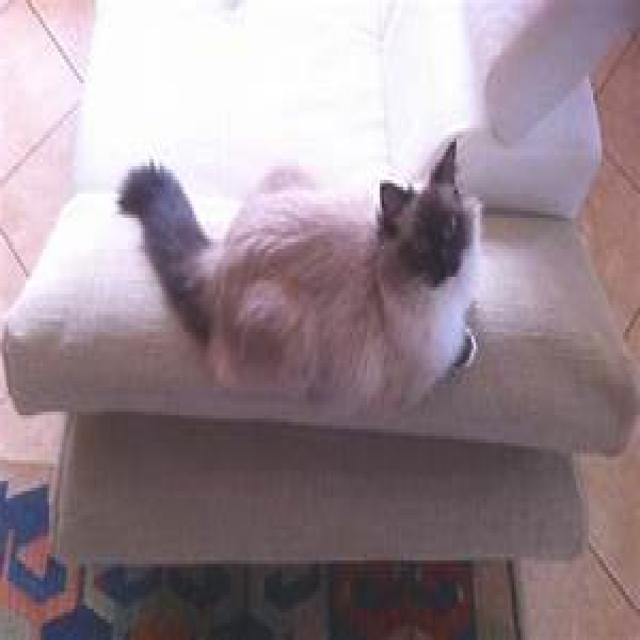animal: (116, 135, 487, 422)
